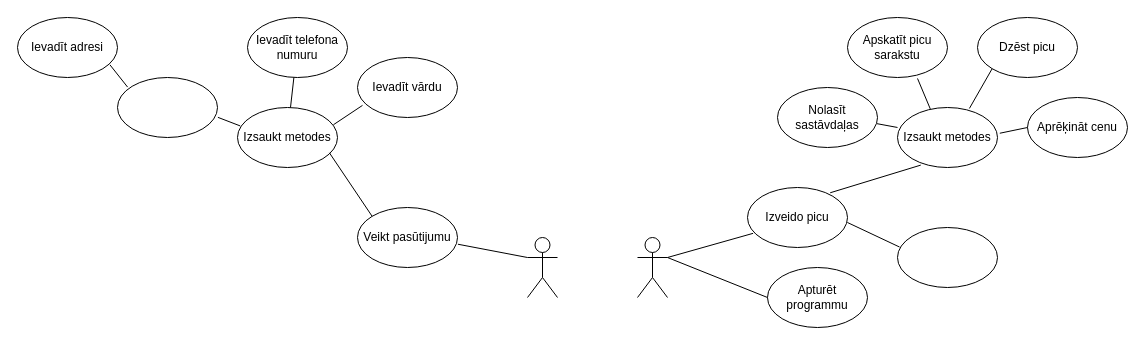
This 1145x345 diagram has some shape labels left out. Here are the shapes that lost their labels. From the top down, the centre of each, then its label:
point (167, 107): Uzzināt vai piegādās
point (542, 267): Klients
point (652, 267): Darbinieks
point (947, 257): Saglabāt failā
